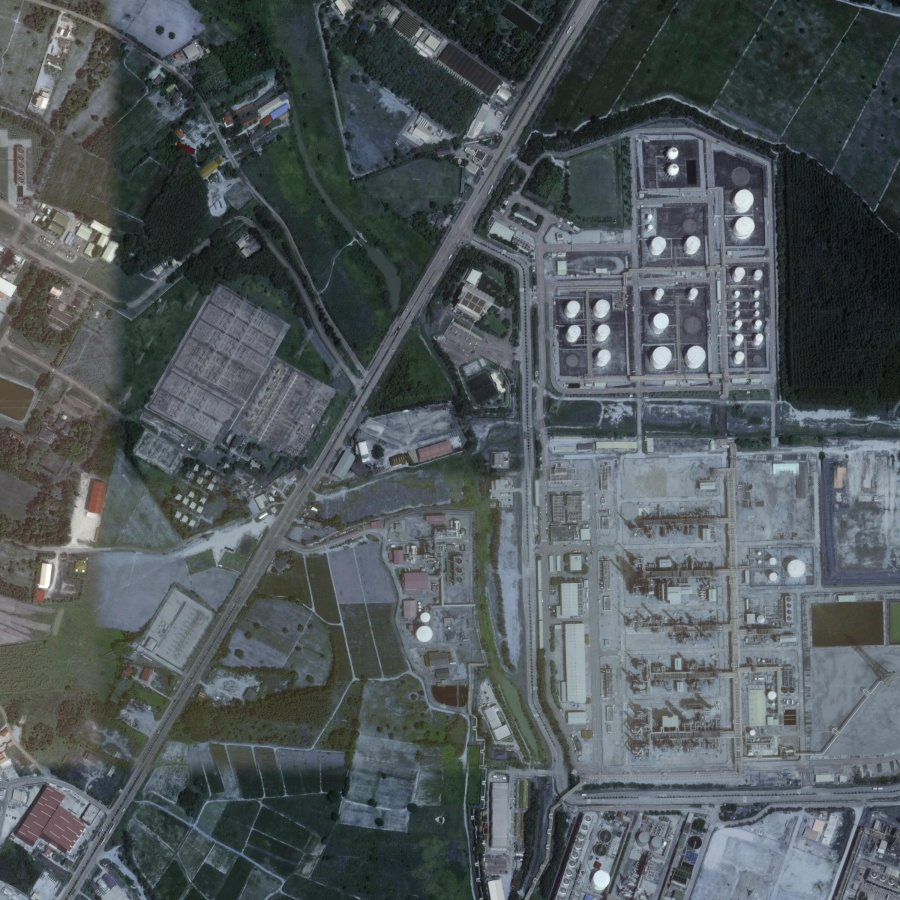PowerPlant: (413, 141, 816, 786)
